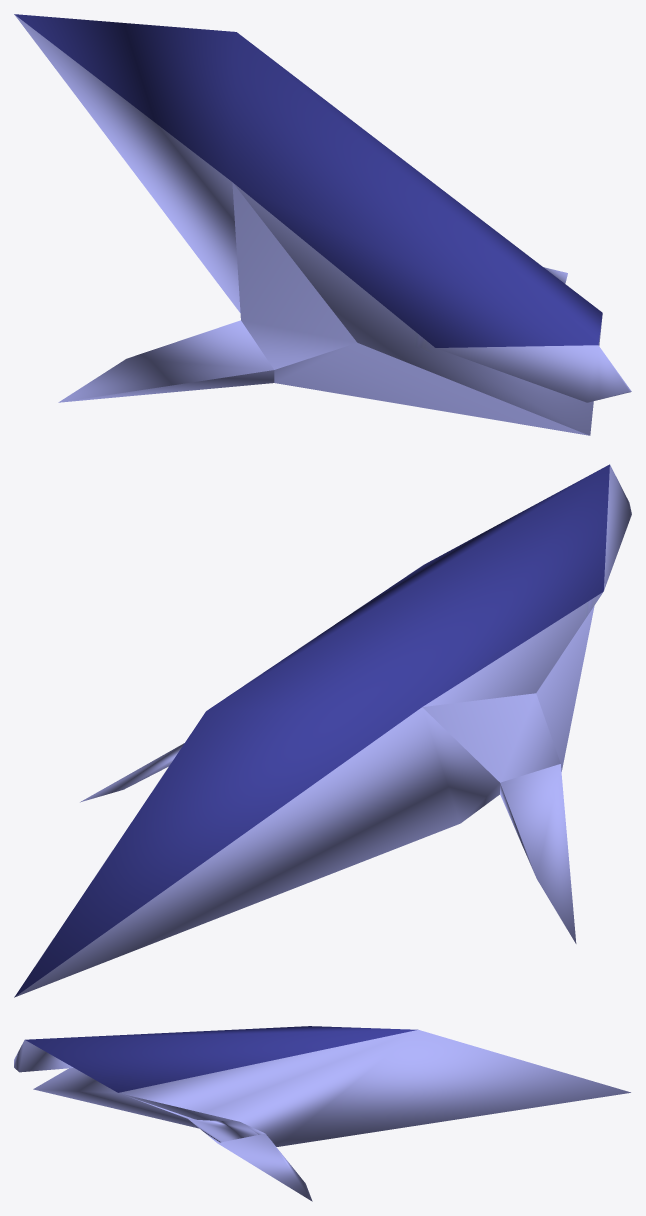
Rendered from baleine_low.obj.
3 views of the same model, one above another, from view 1: azimuth 30°, elevation 25°; view 2: azimuth 150°, elevation 25°; view 3: azimuth 270°, elevation 25° (orthographic). The views are drawn at different scales.
Visible parts, largest first — view 1: whaleSonic.001; view 2: whaleSonic.001; view 3: whaleSonic.001.
Boxes of the visible parts, x1,y1,x2,y2 form: whaleSonic.001: [14, 14, 631, 435]; whaleSonic.001: [14, 464, 631, 997]; whaleSonic.001: [14, 1026, 630, 1201].
Size of the model in its own units: 0.1615 by 0.0721 by 0.3333.
